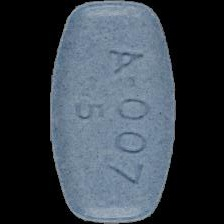63629-3387: (0, 0, 224, 224)
